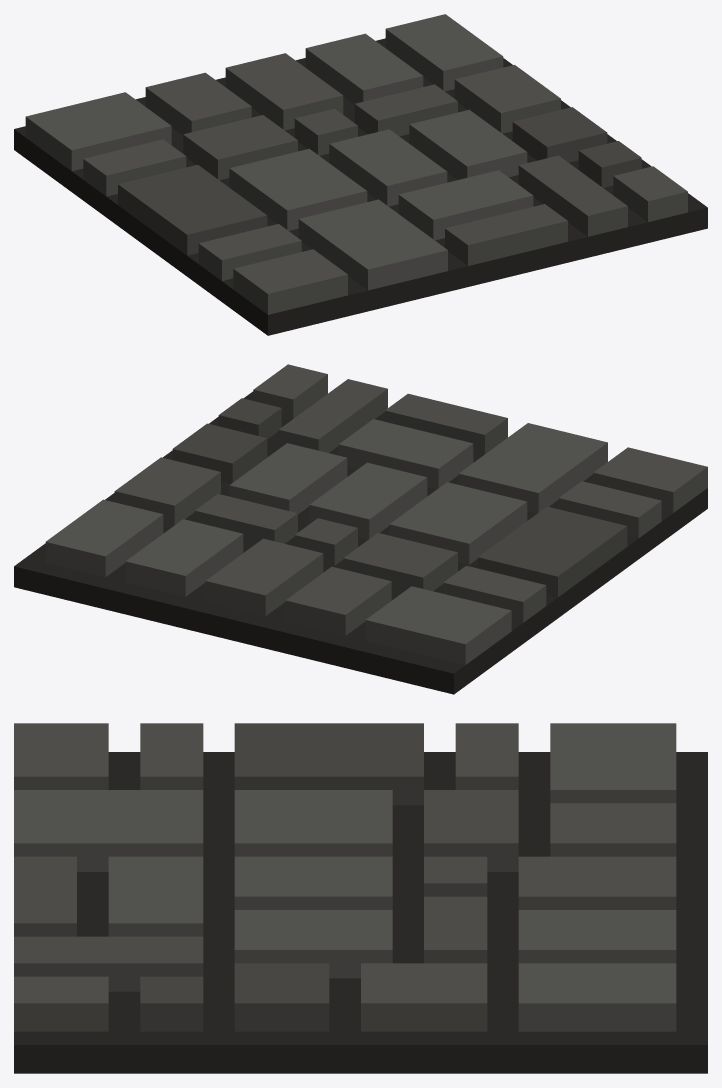
File: tile_sewers_EMPTY_alt2.glb
3 views of the same model, one above another, from view 1: azimuth 30°, elevation 25°; view 2: azimuth 150°, elevation 25°; view 3: azimuth 270°, elevation 25° (orthographic). The views are drawn at different scales.
Parts seen in each view (by area): view 1: tile_sewers_EMPTY_alt2_v3; view 2: tile_sewers_EMPTY_alt2_v3; view 3: tile_sewers_EMPTY_alt2_v3.
Part boxes in pixels (x1,y1,x2,y2): tile_sewers_EMPTY_alt2_v3: (14, 14, 707, 335); tile_sewers_EMPTY_alt2_v3: (14, 364, 707, 694); tile_sewers_EMPTY_alt2_v3: (14, 723, 707, 1073).
Size of the model in its own units: 1 by 0.0909 by 1.
1 material, 1 textured.
